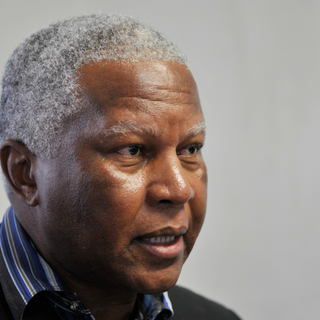eye: (109, 139, 156, 163)
